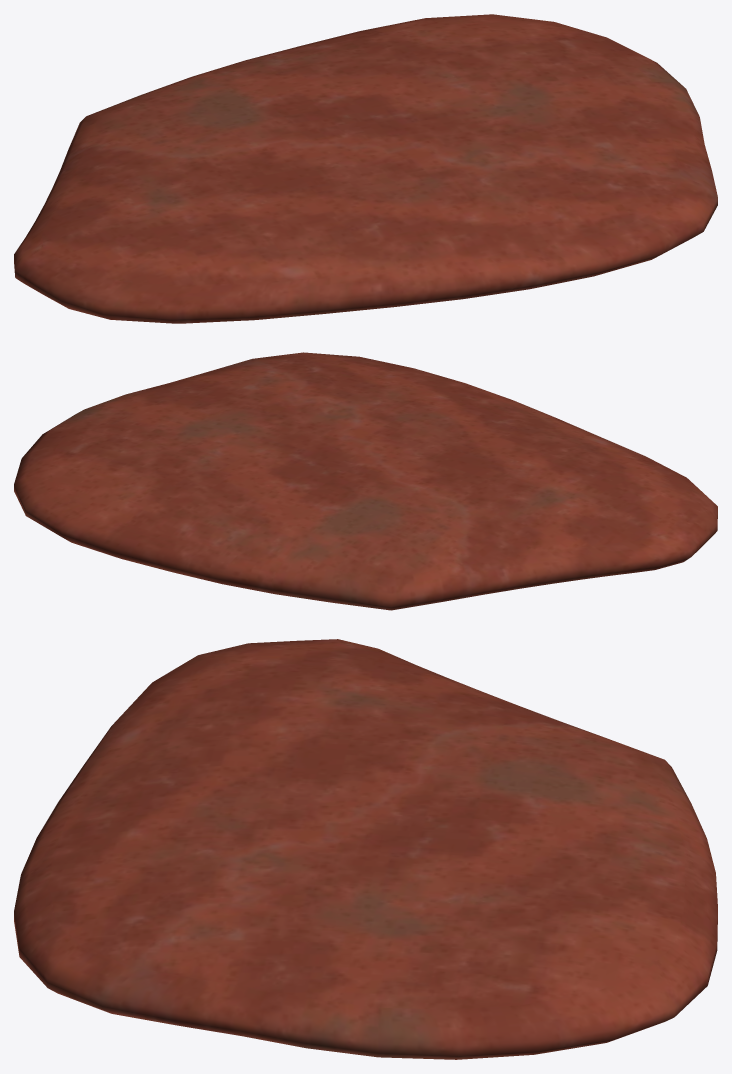
The model's file is red_sandstone_06.glb.
The picture shows the model from 3 angles, top to bottom: view 1: azimuth 30°, elevation 25°; view 2: azimuth 150°, elevation 25°; view 3: azimuth 270°, elevation 25°; orthographic projection. The views are drawn at different scales.
Visible parts, largest first — view 1: red_sandstone_06; view 2: red_sandstone_06; view 3: red_sandstone_06.
Part boxes in pixels (<box>): red_sandstone_06: <box>14,14,717,323</box>; red_sandstone_06: <box>14,352,717,610</box>; red_sandstone_06: <box>14,639,717,1059</box>.
Bounding box in the file's own units: 0.0836 × 0.00851 × 0.0614.
Materials: 1 (1 with a texture image).
